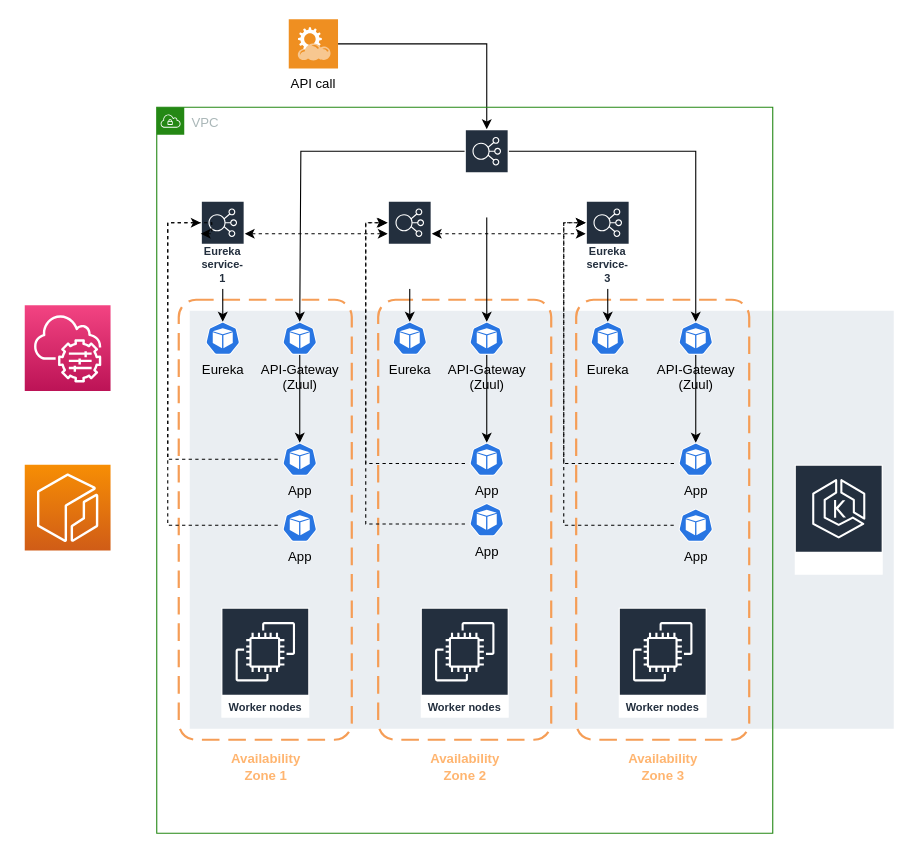
This 913x853 diagram has some shape labels left out. Here are the shapes that lost their labels. From the top down, the centre of each, then its label:
(x=486, y=172): Api-gateway service
(x=409, y=244): Eureka service-2
(x=67, y=347): Parameter Store
(x=67, y=507): ECR
(x=838, y=519): Amazon EKS
